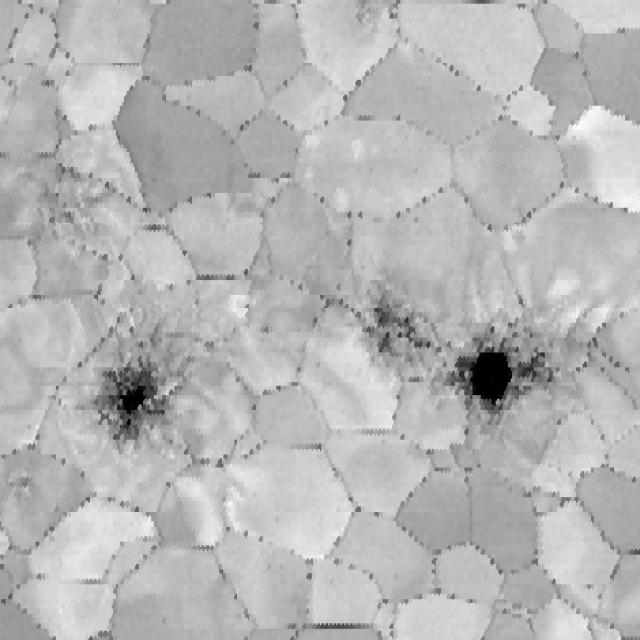good_void: (440, 319, 553, 423), (80, 347, 180, 441), (36, 171, 111, 264), (371, 288, 427, 357), (16, 473, 36, 503), (256, 320, 279, 342)
